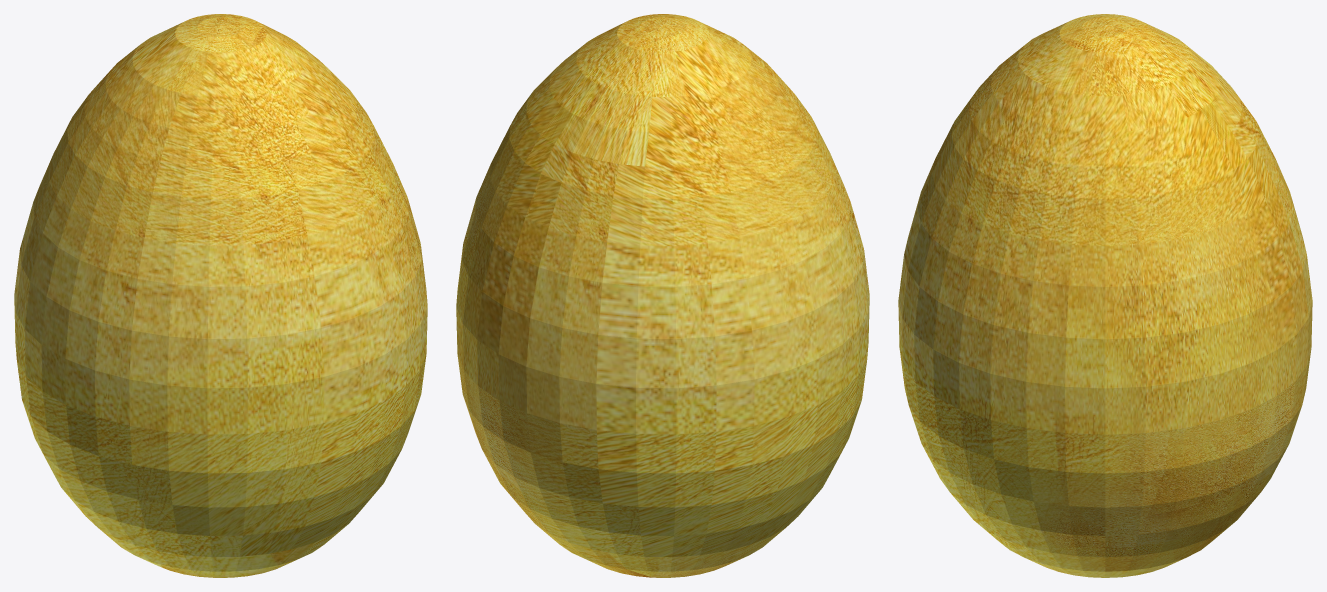
Rendered from GD EGG.fbx.
3 views of the same model, side by side, from view 1: azimuth 30°, elevation 25°; view 2: azimuth 150°, elevation 25°; view 3: azimuth 270°, elevation 25° (orthographic).
Parts seen in each view (by area): view 1: Sphere; view 2: Sphere; view 3: Sphere.
Boxes of the visible parts, x1=… form: Sphere: x1=14, y1=14, x2=427, y2=577; Sphere: x1=456, y1=14, x2=869, y2=577; Sphere: x1=898, y1=14, x2=1312, y2=577.
Size of the model in its own units: 178 by 254 by 178.
Materials: 1 (1 with a texture image).
